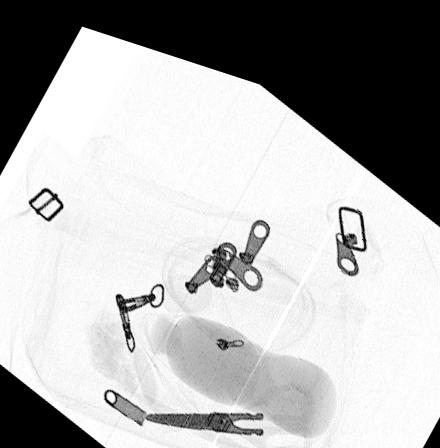Scissors: (141, 359, 319, 448)
